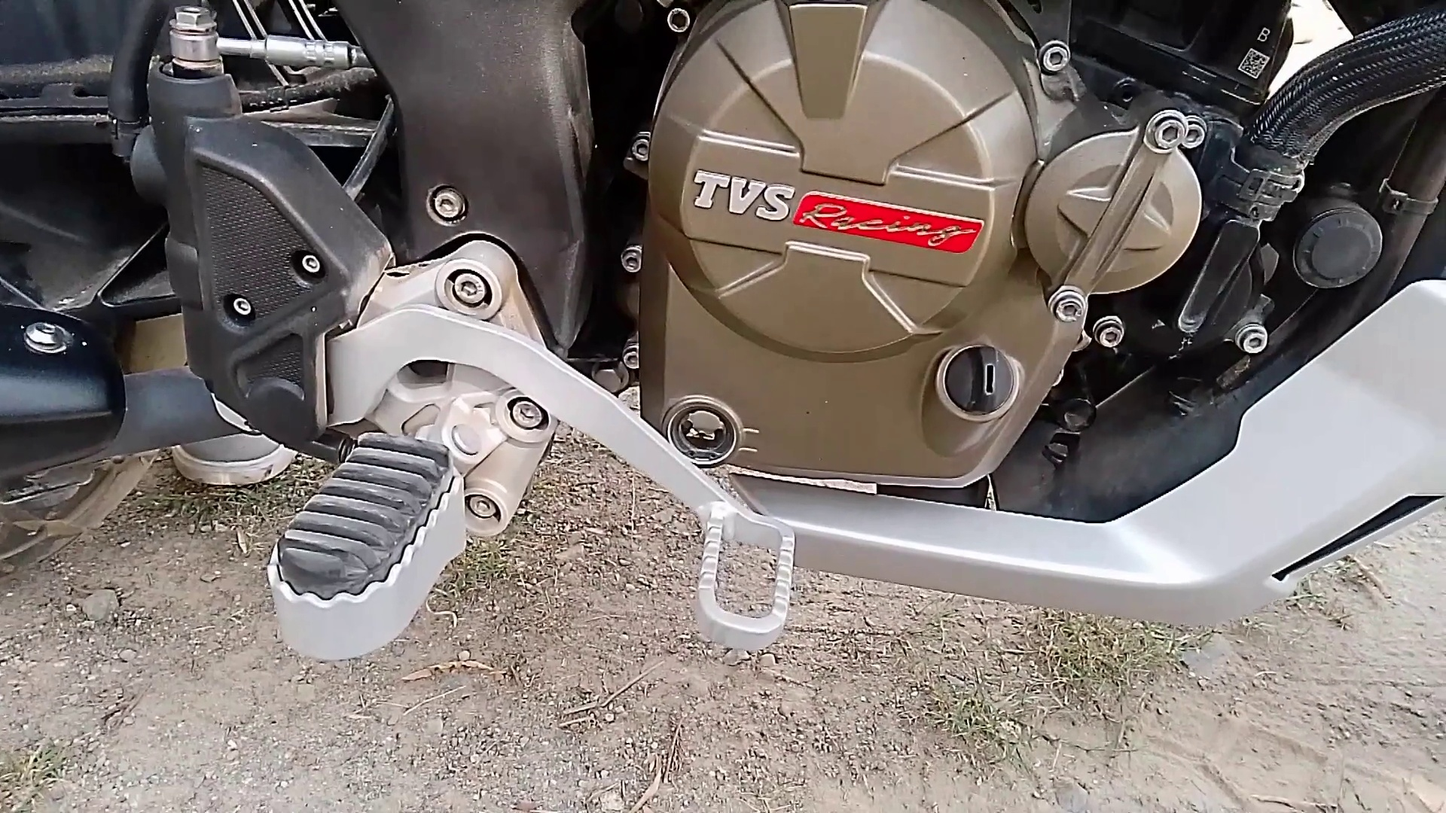engine: (627, 0, 1222, 544)
oil_cap: (932, 326, 1028, 437)
oil_marker: (648, 376, 778, 482)
